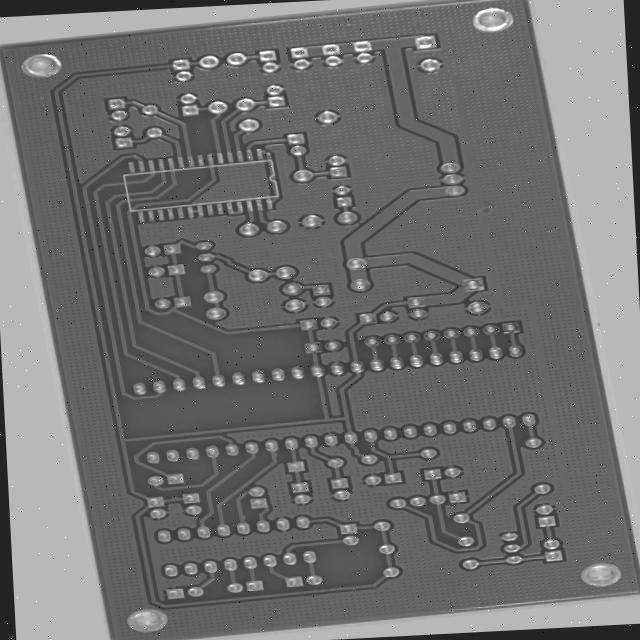spur: (187, 516, 205, 527), (235, 452, 252, 463), (114, 494, 129, 502)
